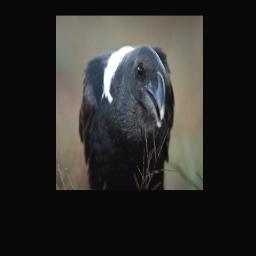Crow: (80, 43, 175, 186)
